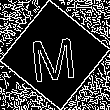M_N: (30, 27, 80, 83)
